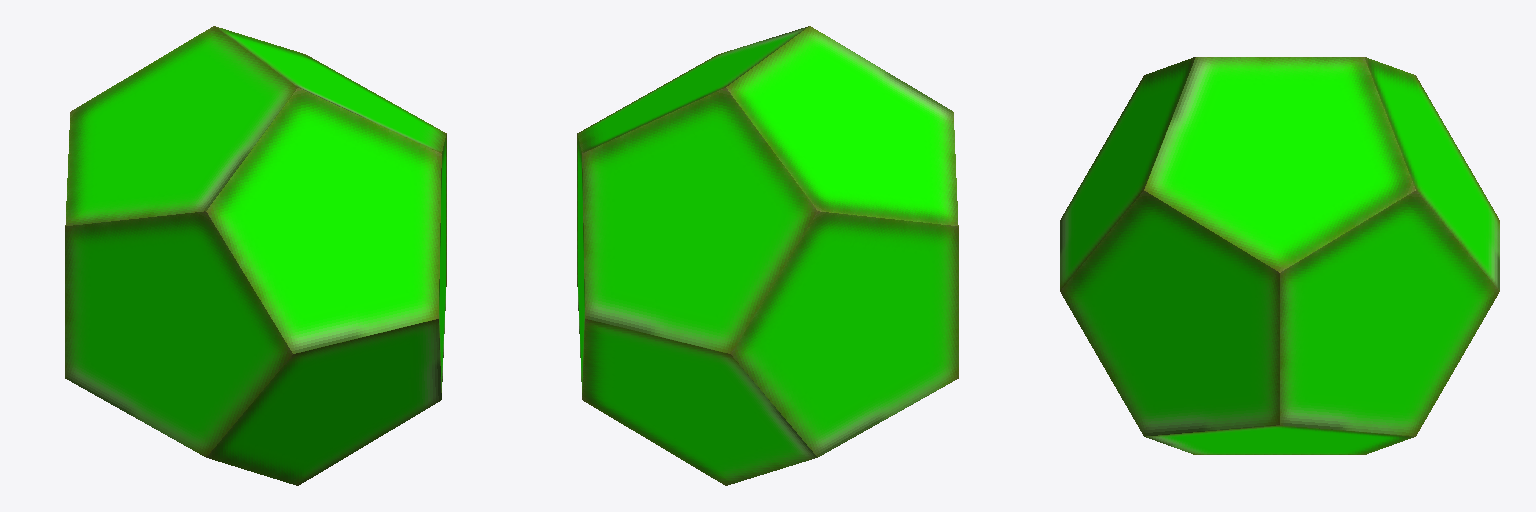
3 views of the same model, side by side, from view 1: azimuth 30°, elevation 25°; view 2: azimuth 150°, elevation 25°; view 3: azimuth 270°, elevation 25° (orthographic).
Parts seen in each view (by area): view 1: cylinder1_sep26; view 2: cylinder1_sep26; view 3: cylinder1_sep26.
Boxes of the visible parts, x1=… form: cylinder1_sep26: x1=65, y1=26, x2=446, y2=485; cylinder1_sep26: x1=577, y1=26, x2=958, y2=485; cylinder1_sep26: x1=1060, y1=57, x2=1499, y2=454.
Size of the model in its own units: 1.11 by 1.11 by 1.11.
1 materials, 1 textured.